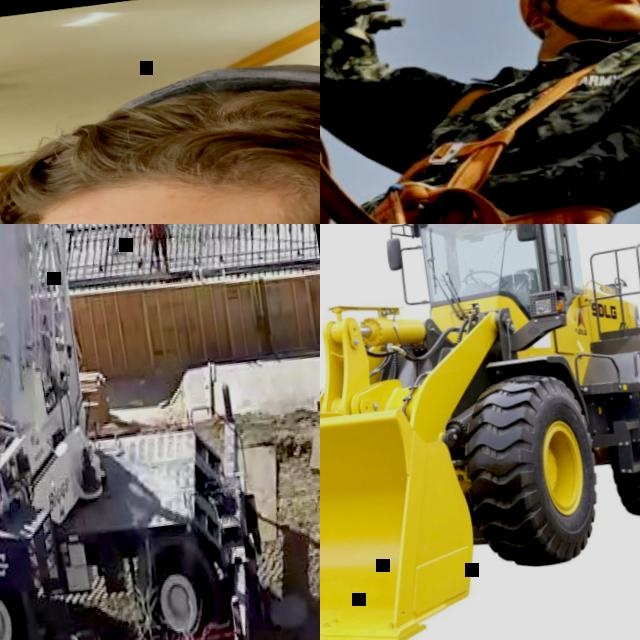NO-Hardhat: (0, 30, 320, 224)
NO-Mask: (530, 0, 640, 32)
NO-Safety Vest: (386, 36, 640, 224)
Person: (320, 0, 640, 224), (0, 9, 320, 224), (508, 0, 640, 42), (142, 224, 174, 271)
machinery: (320, 224, 640, 640), (0, 224, 287, 640)
